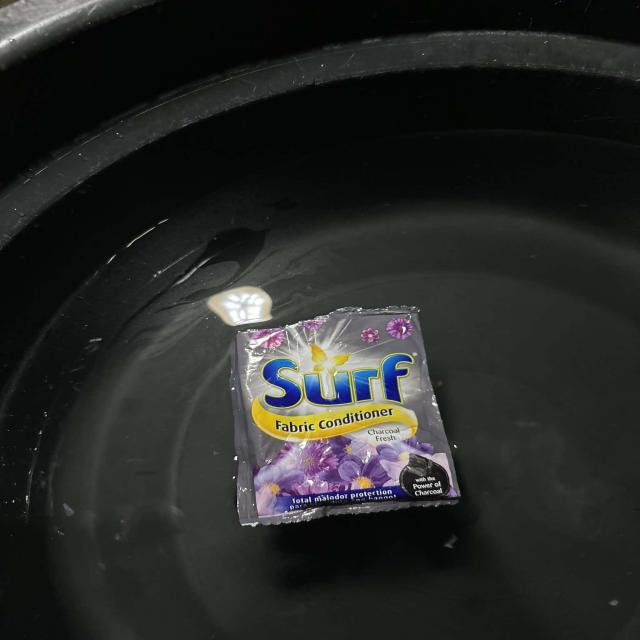Plastic Wrapper: (230, 306, 460, 526)
